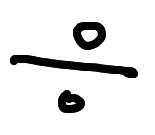div: (9, 20, 134, 112)
